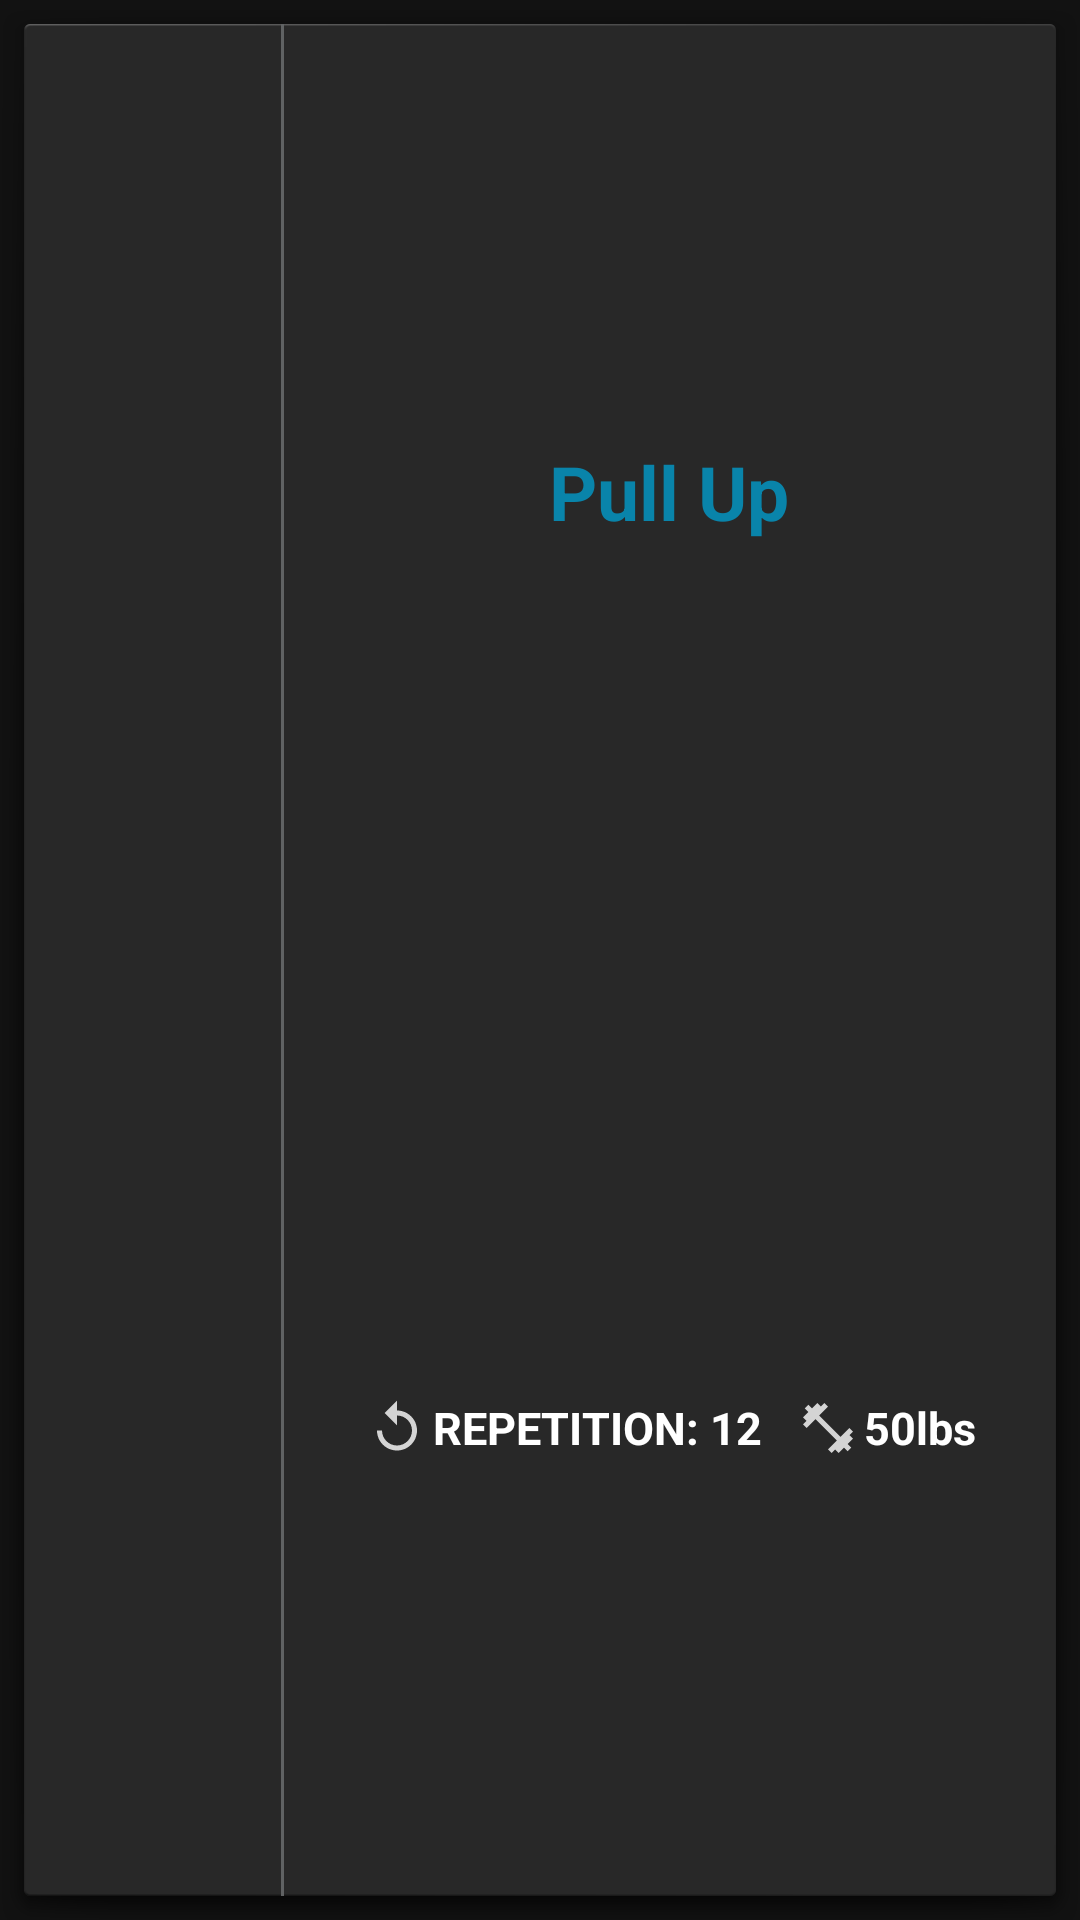

Icon bounding boxes for this 1080 × 1920 phone screenshot, format box=[x1, y1, x2, y2]:
repeat: box=[377, 1401, 417, 1451]
weight: box=[803, 1403, 853, 1453]
